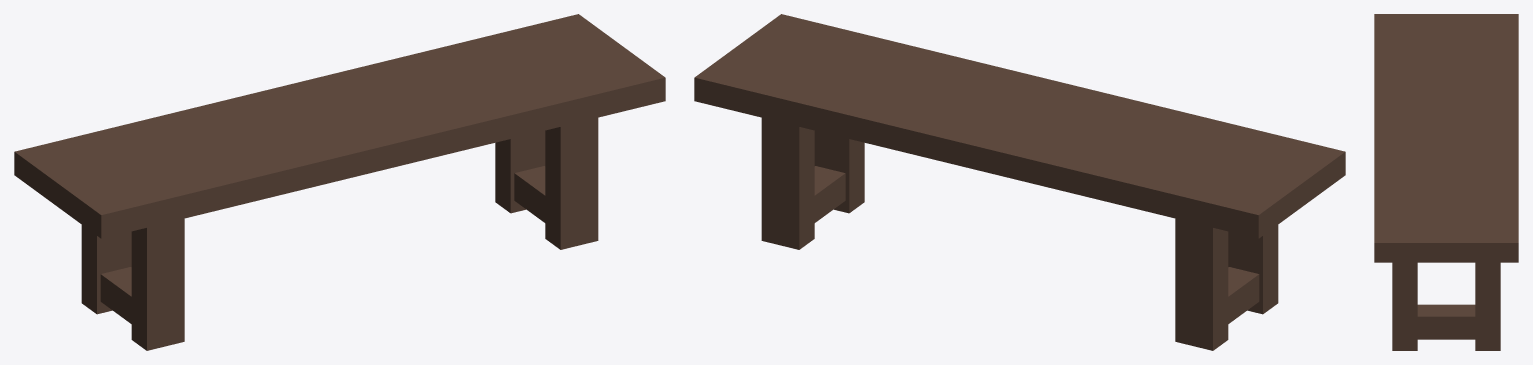
The picture shows the model from 3 angles, left to right: view 1: azimuth 30°, elevation 25°; view 2: azimuth 150°, elevation 25°; view 3: azimuth 270°, elevation 25°; orthographic projection. The views are drawn at different scales.
Parts seen in each view (by area): view 1: bench; view 2: bench; view 3: bench.
Part boxes in pixels (x1,y1,x2,y2): bench: (14, 14, 665, 350); bench: (694, 14, 1345, 350); bench: (1374, 14, 1518, 350).
Size of the model in its own units: 1.5 by 0.4 by 0.4.
